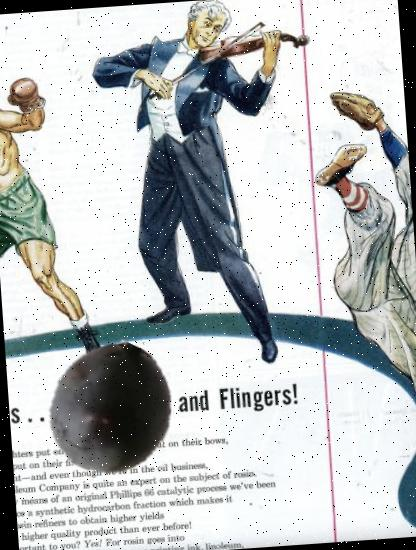Plum: (40, 336, 184, 480)
